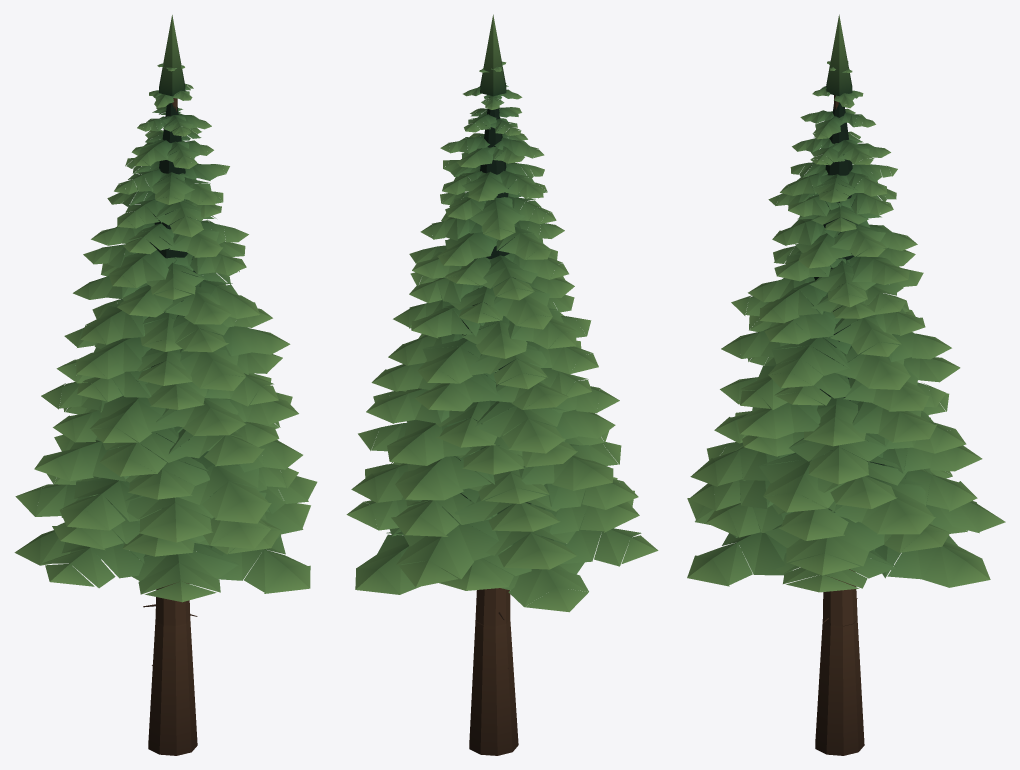
Rendered from valley-pine_b.glb.
3 renders of one model, left to right at view 1: azimuth 30°, elevation 25°; view 2: azimuth 150°, elevation 25°; view 3: azimuth 270°, elevation 25°, orthographic.
Visible parts, largest first — view 1: pine_b; view 2: pine_b; view 3: pine_b.
Boxes of the visible parts, x1=… form: pine_b: x1=14, y1=15, x2=317, y2=755; pine_b: x1=346, y1=14, x2=658, y2=755; pine_b: x1=687, y1=14, x2=1005, y2=755.
Bounding box in the file's own units: 12.77 × 31.81 × 12.57.
